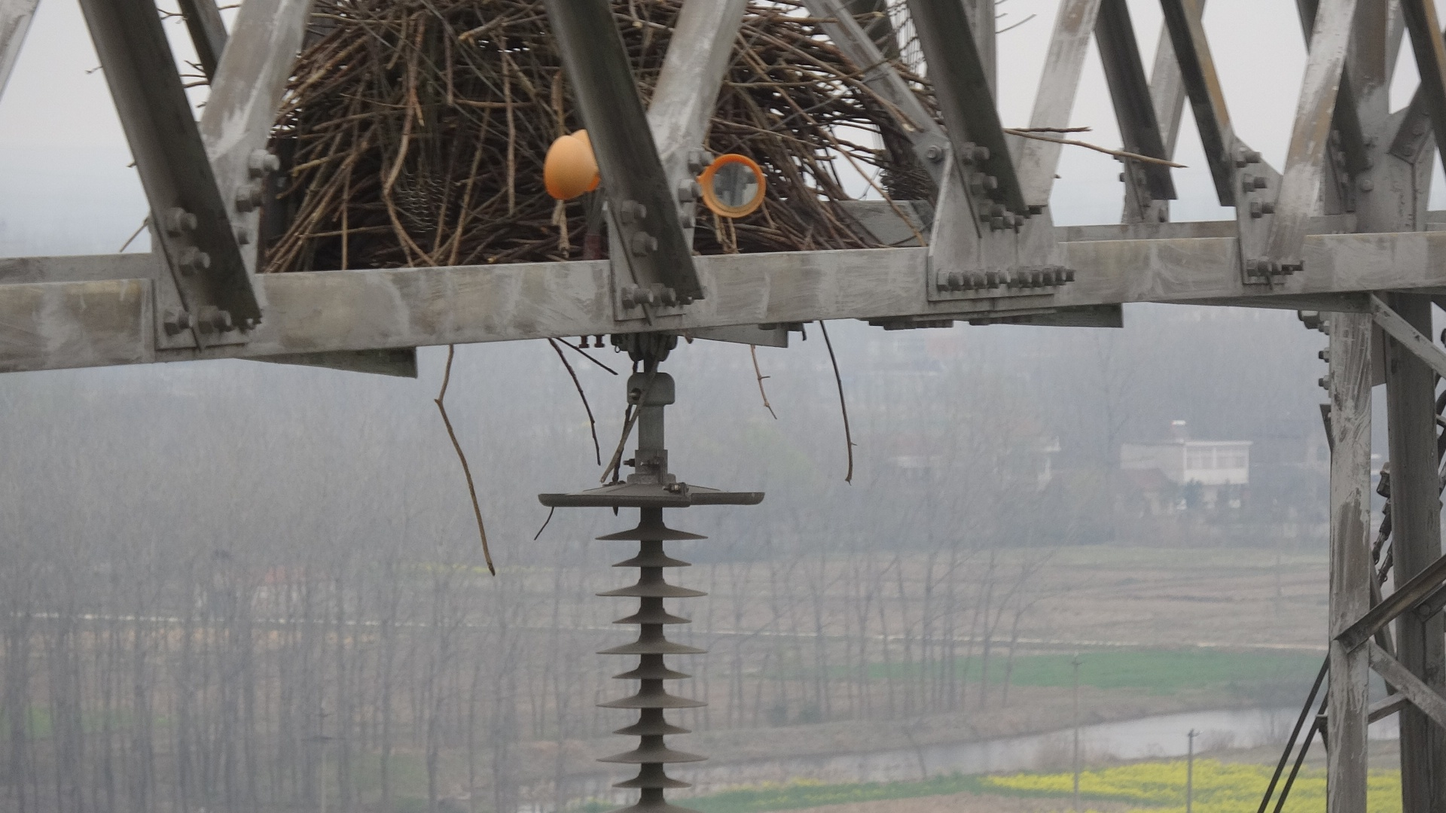insulator: (591, 524, 715, 813)
